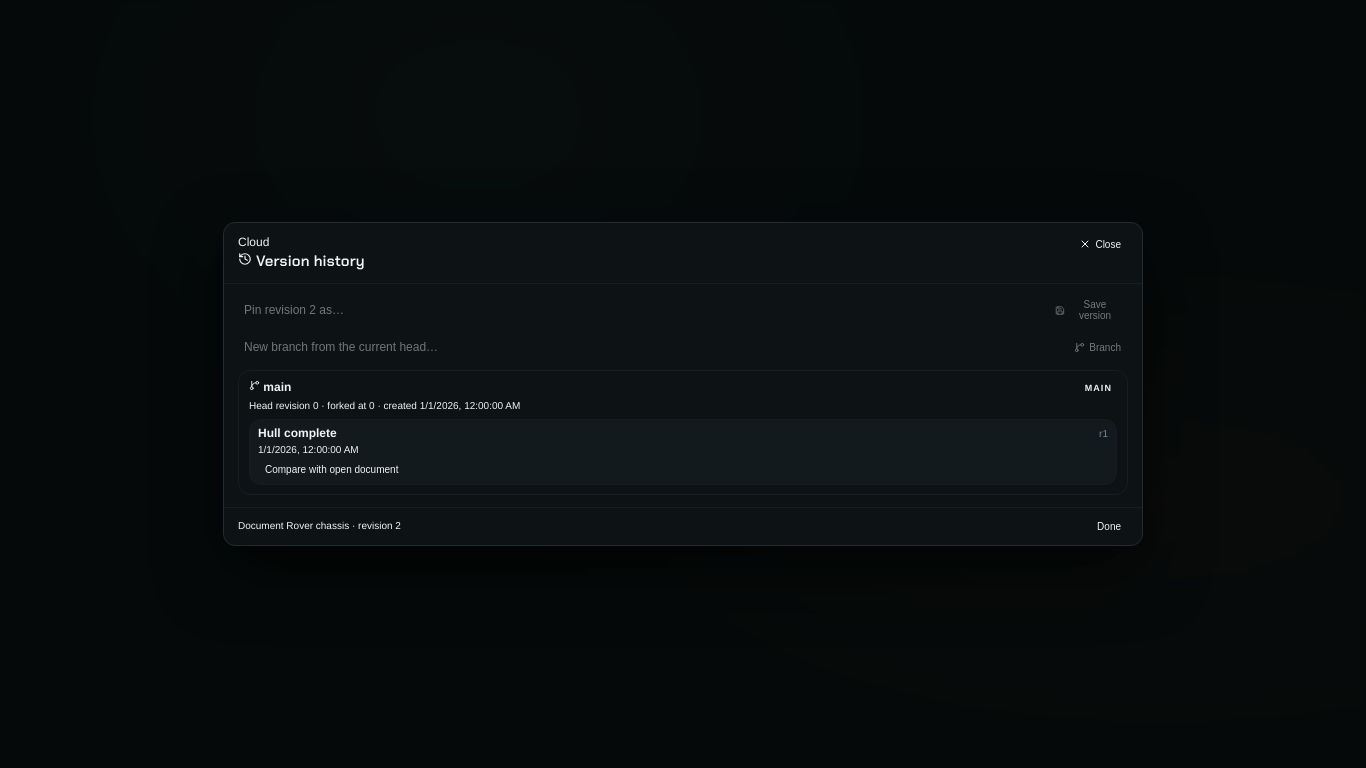
Test case: Version history — the happy path › pins a version, compares it, and restores it as new work on the head
expect the text "Hull complete" is shown: met, box [258, 426, 337, 440]
expect the text "r1" is shown: met, box [1099, 429, 1108, 440]
Click the button "Compare with open document": (332, 470) [258, 461, 405, 478]
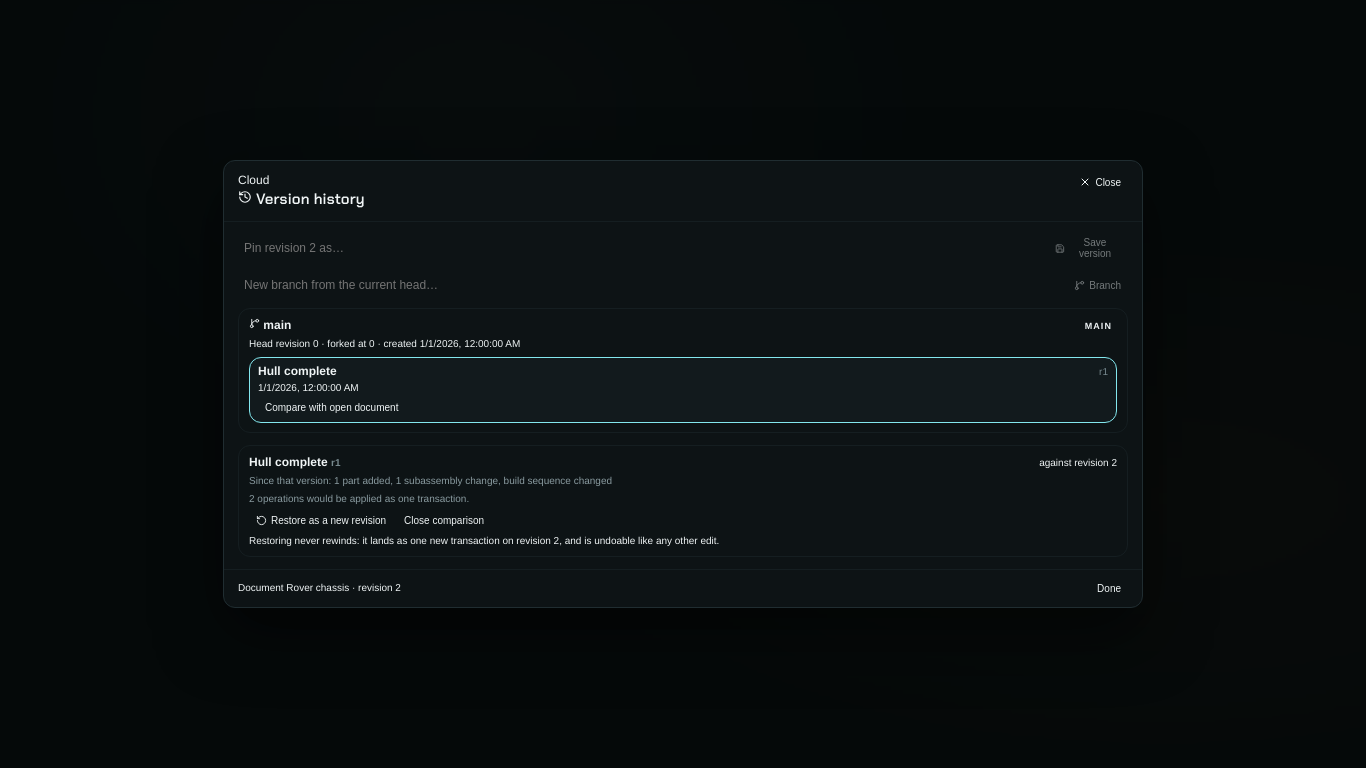
expect the element named "Comparison with Hull complete" shows "Since that version: 1 part added": met, box [249, 476, 612, 487]
expect the element named "Comparison with Hull complete" shows "would be applied as one transaction": met, box [304, 494, 469, 505]
Click the button "Restore as a new revision": (321, 520) [249, 512, 393, 529]
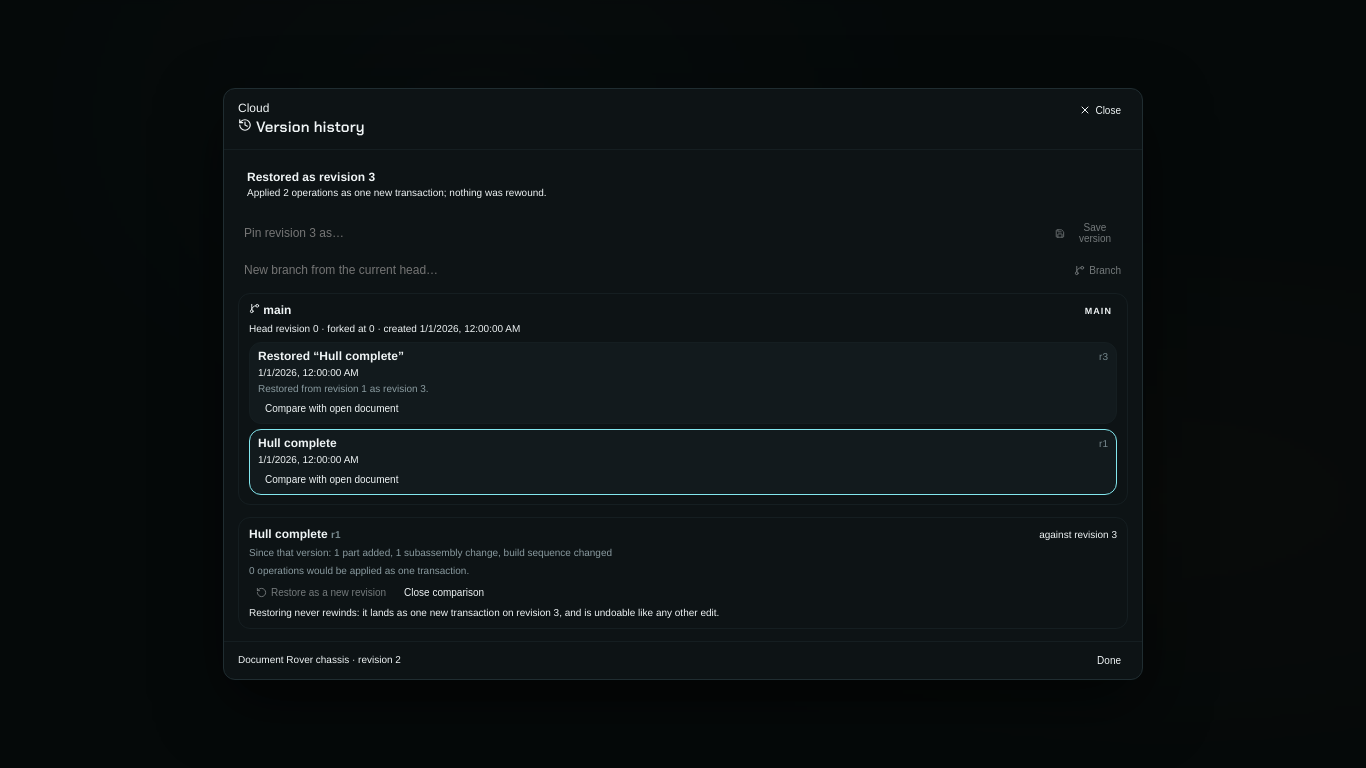
expect the text "Restored as revision 3" is shown: met, box [247, 170, 375, 184]
